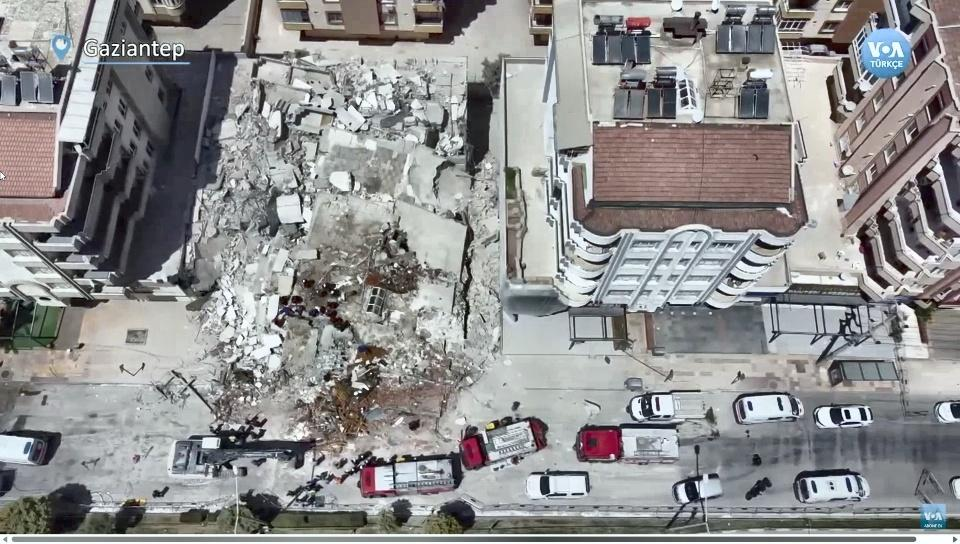kapali: (145, 385, 541, 516)
